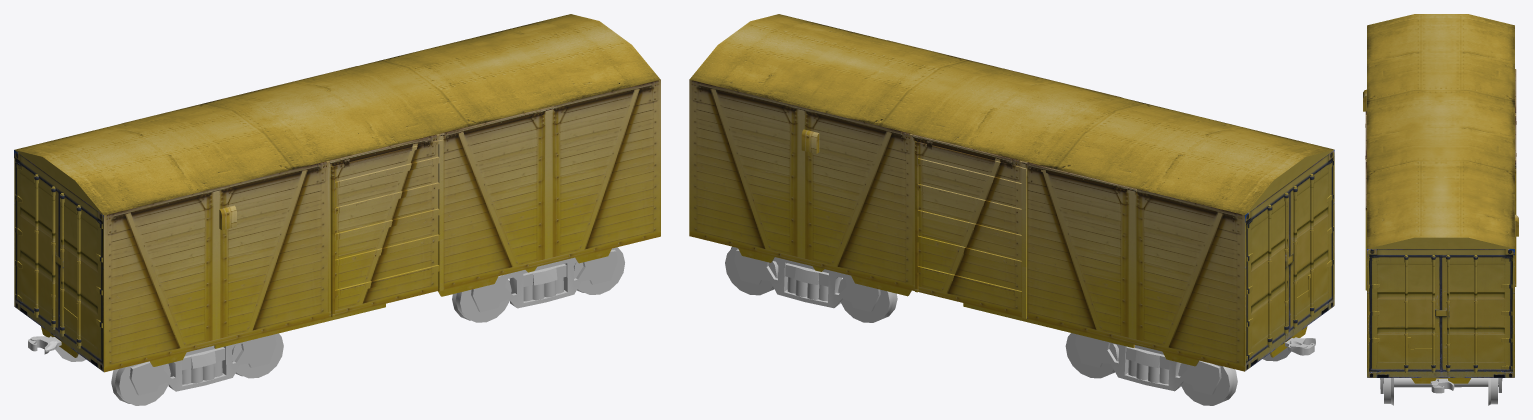
Rendered from TrainBoxCar04.FBX.
3 views of the same model, side by side, from view 1: azimuth 30°, elevation 25°; view 2: azimuth 150°, elevation 25°; view 3: azimuth 270°, elevation 25° (orthographic). The views are drawn at different scales.
Parts seen in each view (by area): view 1: TrainBoxCar04, TrainBoxCar01Wheels; view 2: TrainBoxCar04, TrainBoxCar01Wheels; view 3: TrainBoxCar04, TrainBoxCar01Wheels, TrainBoxCar01Detail.
Boxes of the visible parts, bbox=[...] form: TrainBoxCar04: bbox=[14, 14, 660, 372]; TrainBoxCar01Wheels: bbox=[55, 247, 624, 405]; TrainBoxCar04: bbox=[689, 14, 1334, 371]; TrainBoxCar01Wheels: bbox=[725, 246, 1291, 405]; TrainBoxCar04: bbox=[1363, 14, 1518, 383]; TrainBoxCar01Wheels: bbox=[1380, 378, 1502, 405]; TrainBoxCar01Detail: bbox=[1430, 378, 1454, 393].
Bounding box in the file's own units: 664 × 236 × 179.
